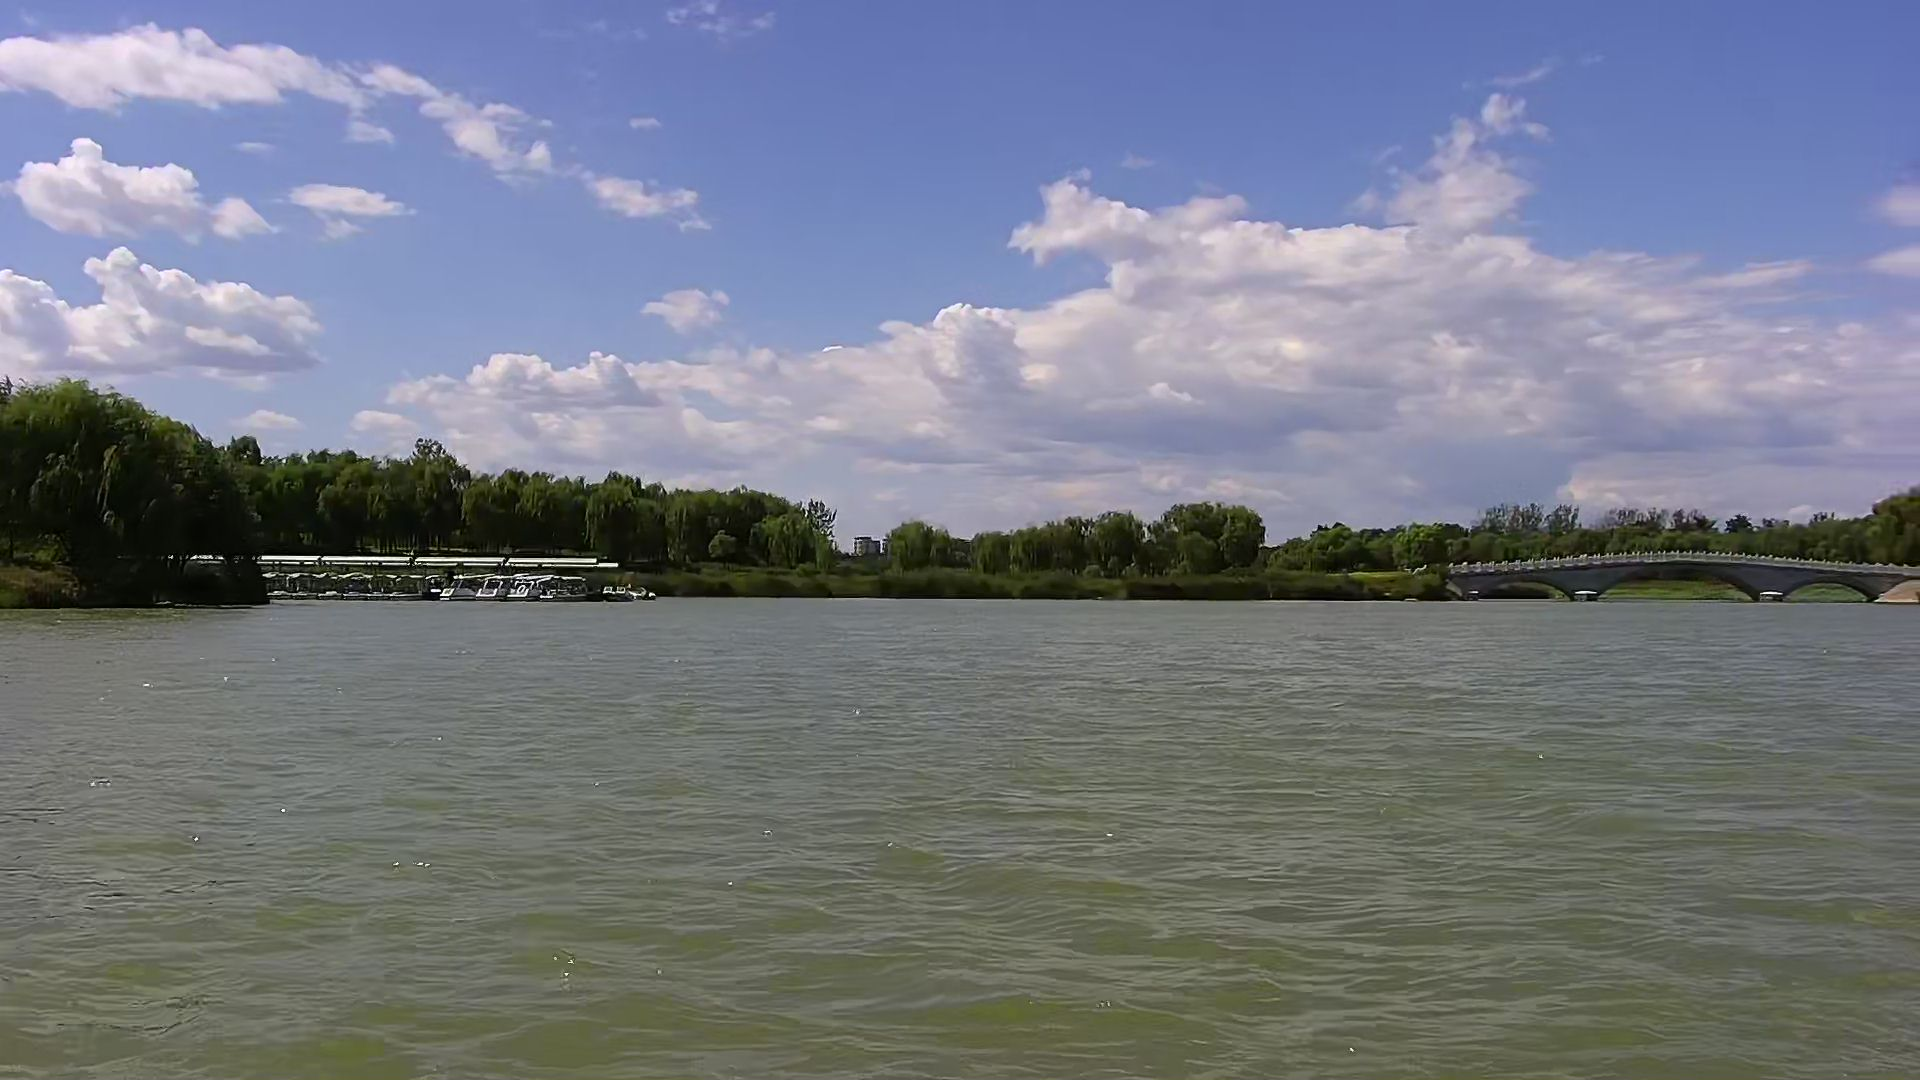bridge: (1431, 549, 1912, 616)
harbor: (236, 541, 667, 611)
